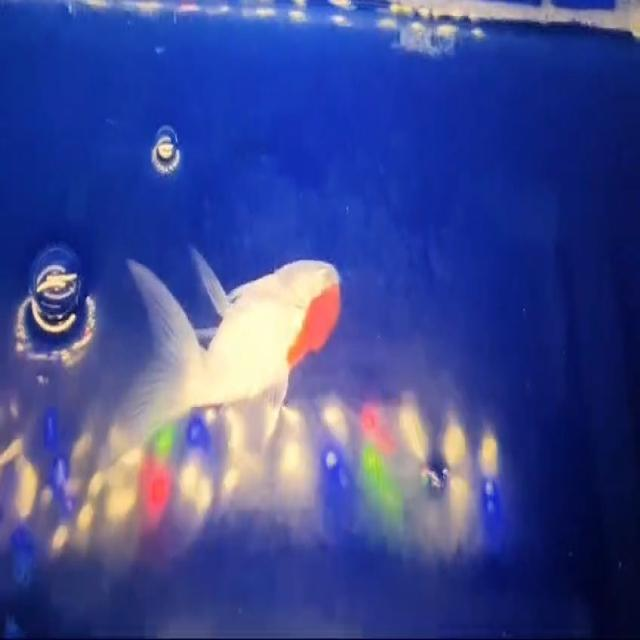fish: (122, 232, 350, 458)
